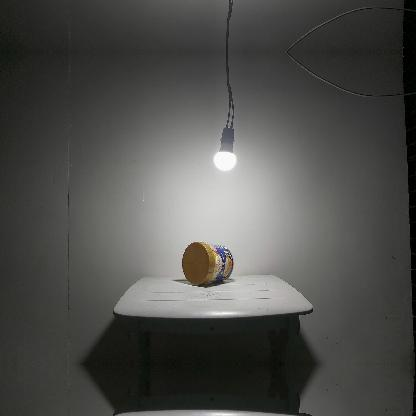Lady-s-Choice: (181, 241, 235, 285)
